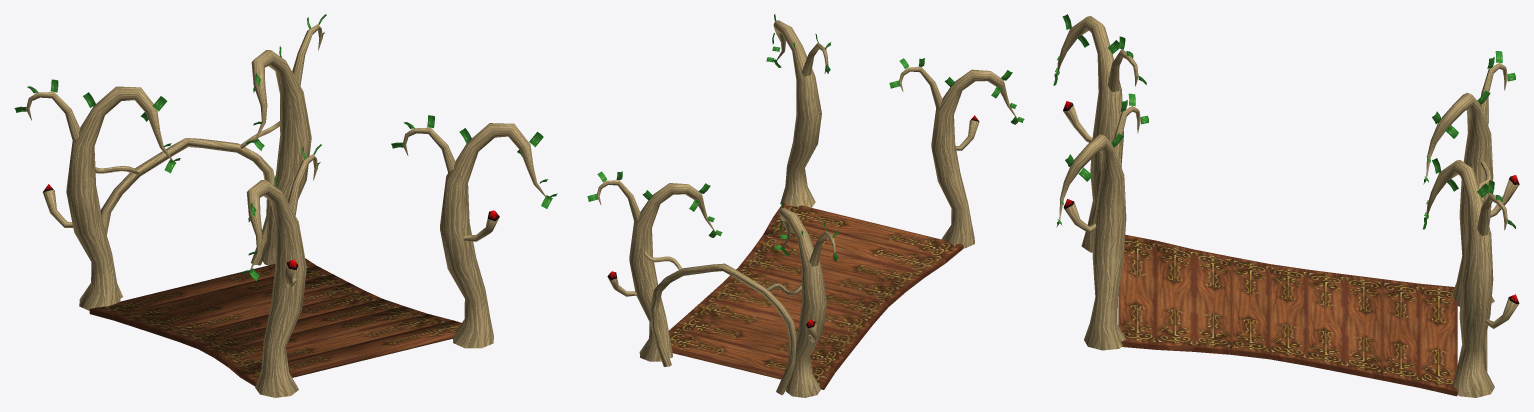
The model's file is EKH_ENTRANCE_PS_EN_BRIDGE_4746__GX.fbx.
3 views of the same model, side by side, from view 1: azimuth 30°, elevation 25°; view 2: azimuth 150°, elevation 25°; view 3: azimuth 270°, elevation 25° (orthographic). The views are drawn at different scales.
Visible parts, largest first — view 1: EKH_ENTRANCE_PS_EN_BRIDGE_4746__GX; view 2: EKH_ENTRANCE_PS_EN_BRIDGE_4746__GX; view 3: EKH_ENTRANCE_PS_EN_BRIDGE_4746__GX.
Part boxes in pixels (x1,y1,x2,y2): EKH_ENTRANCE_PS_EN_BRIDGE_4746__GX: (14, 14, 557, 397); EKH_ENTRANCE_PS_EN_BRIDGE_4746__GX: (587, 14, 1024, 397); EKH_ENTRANCE_PS_EN_BRIDGE_4746__GX: (1053, 14, 1519, 397).
Bounding box in the file's own units: 64195 × 54549 × 81652.
Materials: 5 (5 with a texture image).
